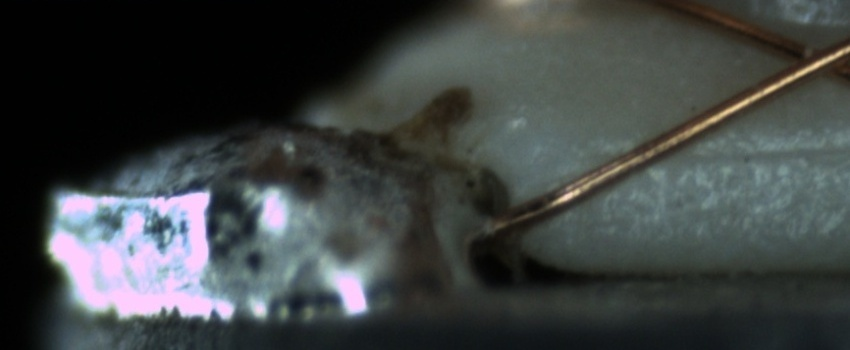CL: (765, 26, 848, 89)
DL: (612, 119, 850, 187)
